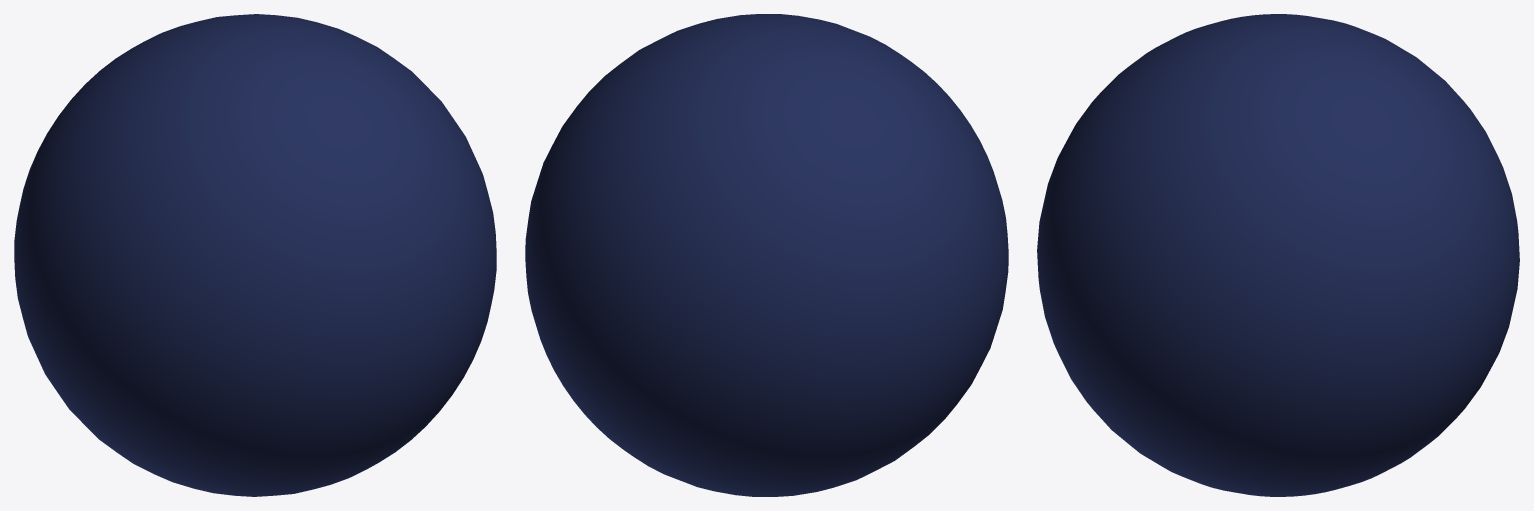
File: SPHERE_NAVY.fbx
3 renders of one model, left to right at view 1: azimuth 30°, elevation 25°; view 2: azimuth 150°, elevation 25°; view 3: azimuth 270°, elevation 25°, orthographic.
Parts seen in each view (by area): view 1: Sphere_2; view 2: Sphere_2; view 3: Sphere_2.
Part boxes in pixels (x1,y1,x2,y2): Sphere_2: (14,14,496,496); Sphere_2: (525,14,1008,496); Sphere_2: (1037,14,1519,496).
Bounding box in the file's own units: 100 × 99.79 × 99.97.
